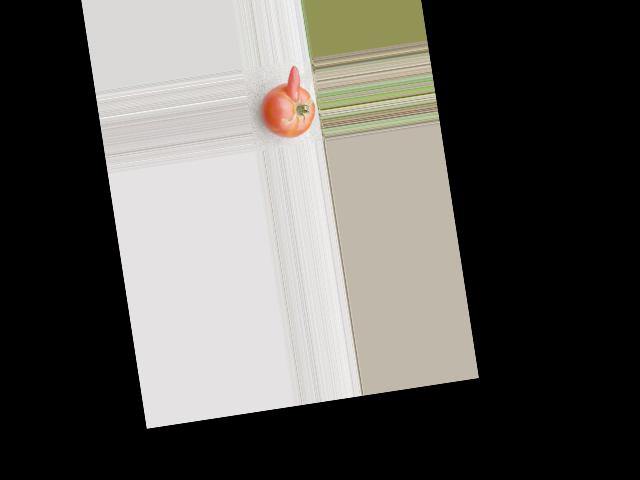tomato: (258, 79, 319, 142)
